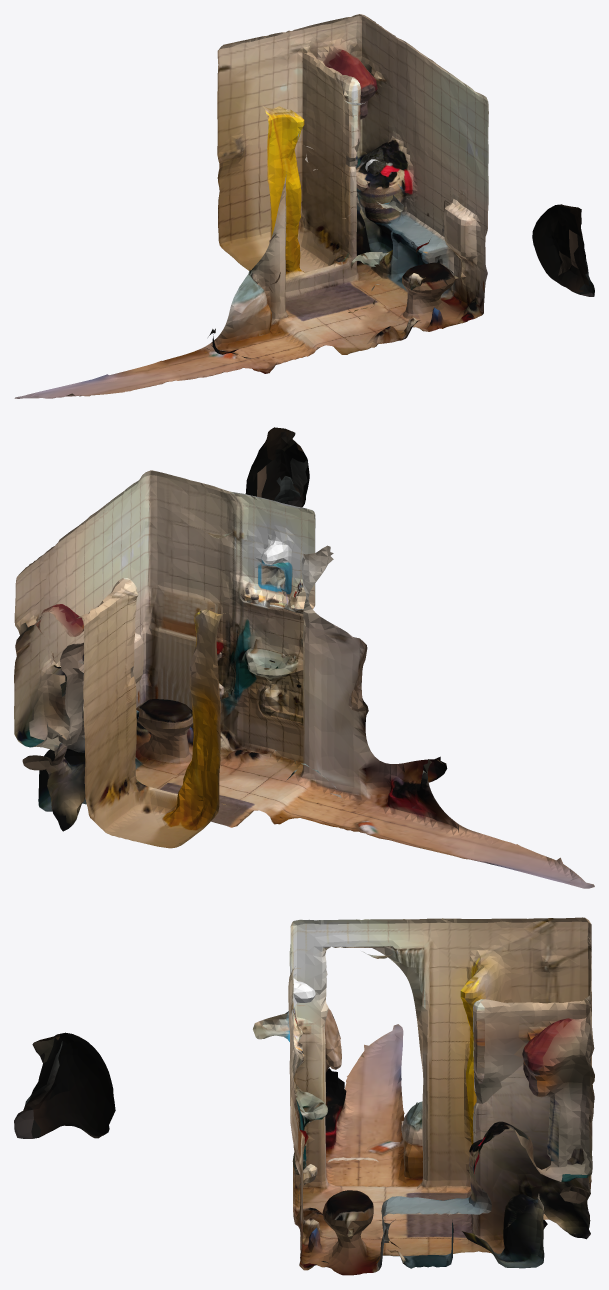
3 renders of one model, top to bottom at view 1: azimuth 30°, elevation 25°; view 2: azimuth 150°, elevation 25°; view 3: azimuth 270°, elevation 25°, orthographic. The views are drawn at different scales.
Bounding box in the file's own units: 4.59 × 2.35 × 4.39.
1 material, 1 textured.
